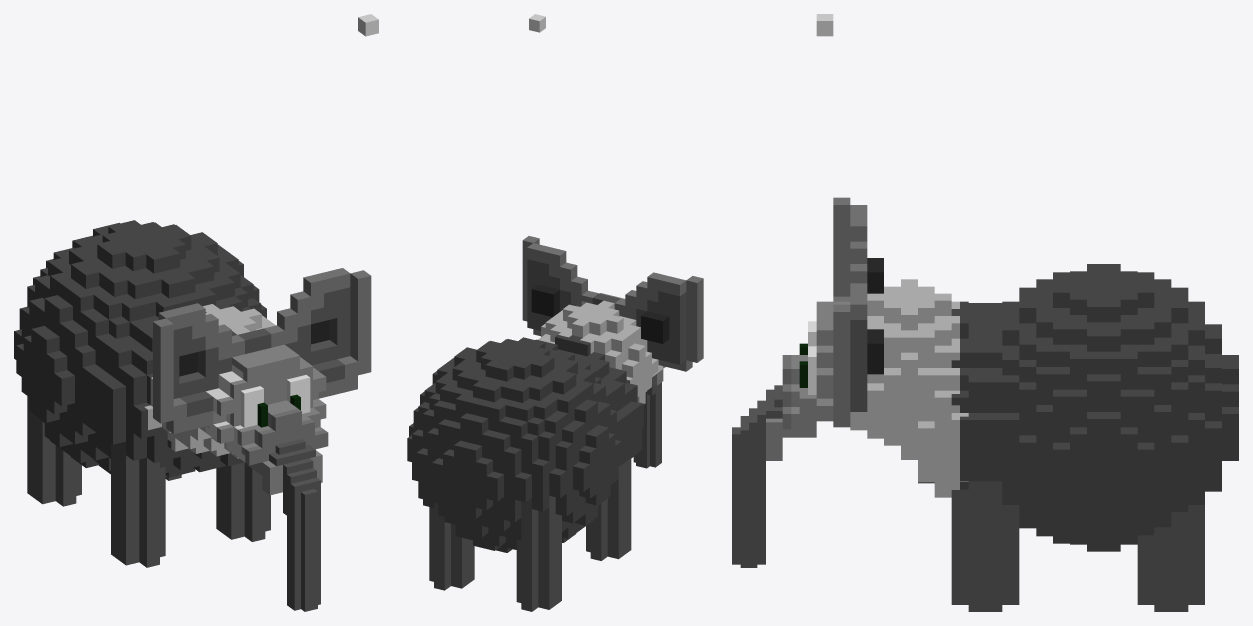
Rendered from Elephant.obj.
3 renders of one model, left to right at view 1: azimuth 30°, elevation 25°; view 2: azimuth 150°, elevation 25°; view 3: azimuth 270°, elevation 25°, orthographic. The views are drawn at different scales.
Size of the model in its own units: 3.2 by 8 by 6.
1 material, 1 textured.
